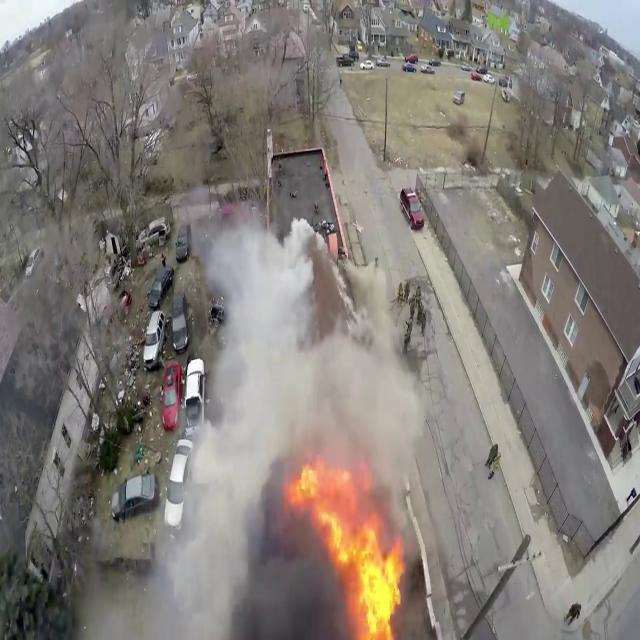Fire: (287, 458, 411, 638)
Smoke: (171, 194, 415, 635)
